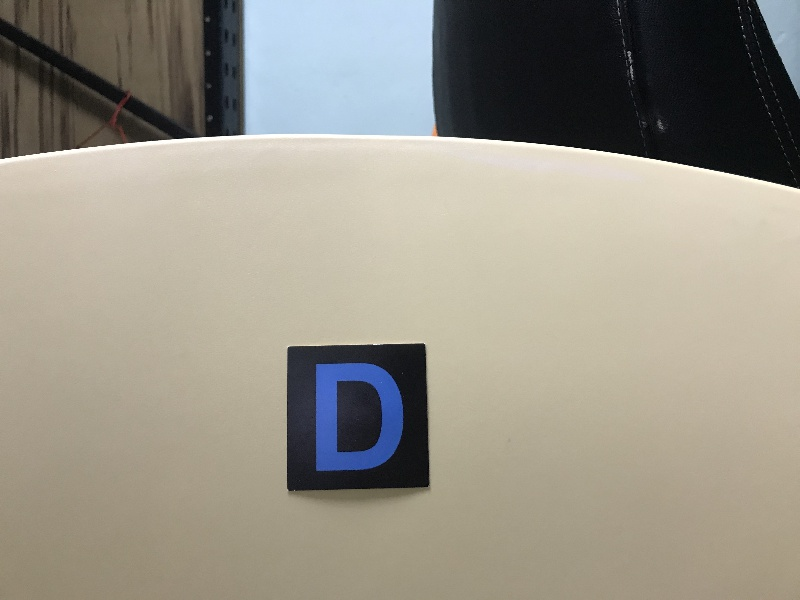D-14: (289, 348, 425, 485)
